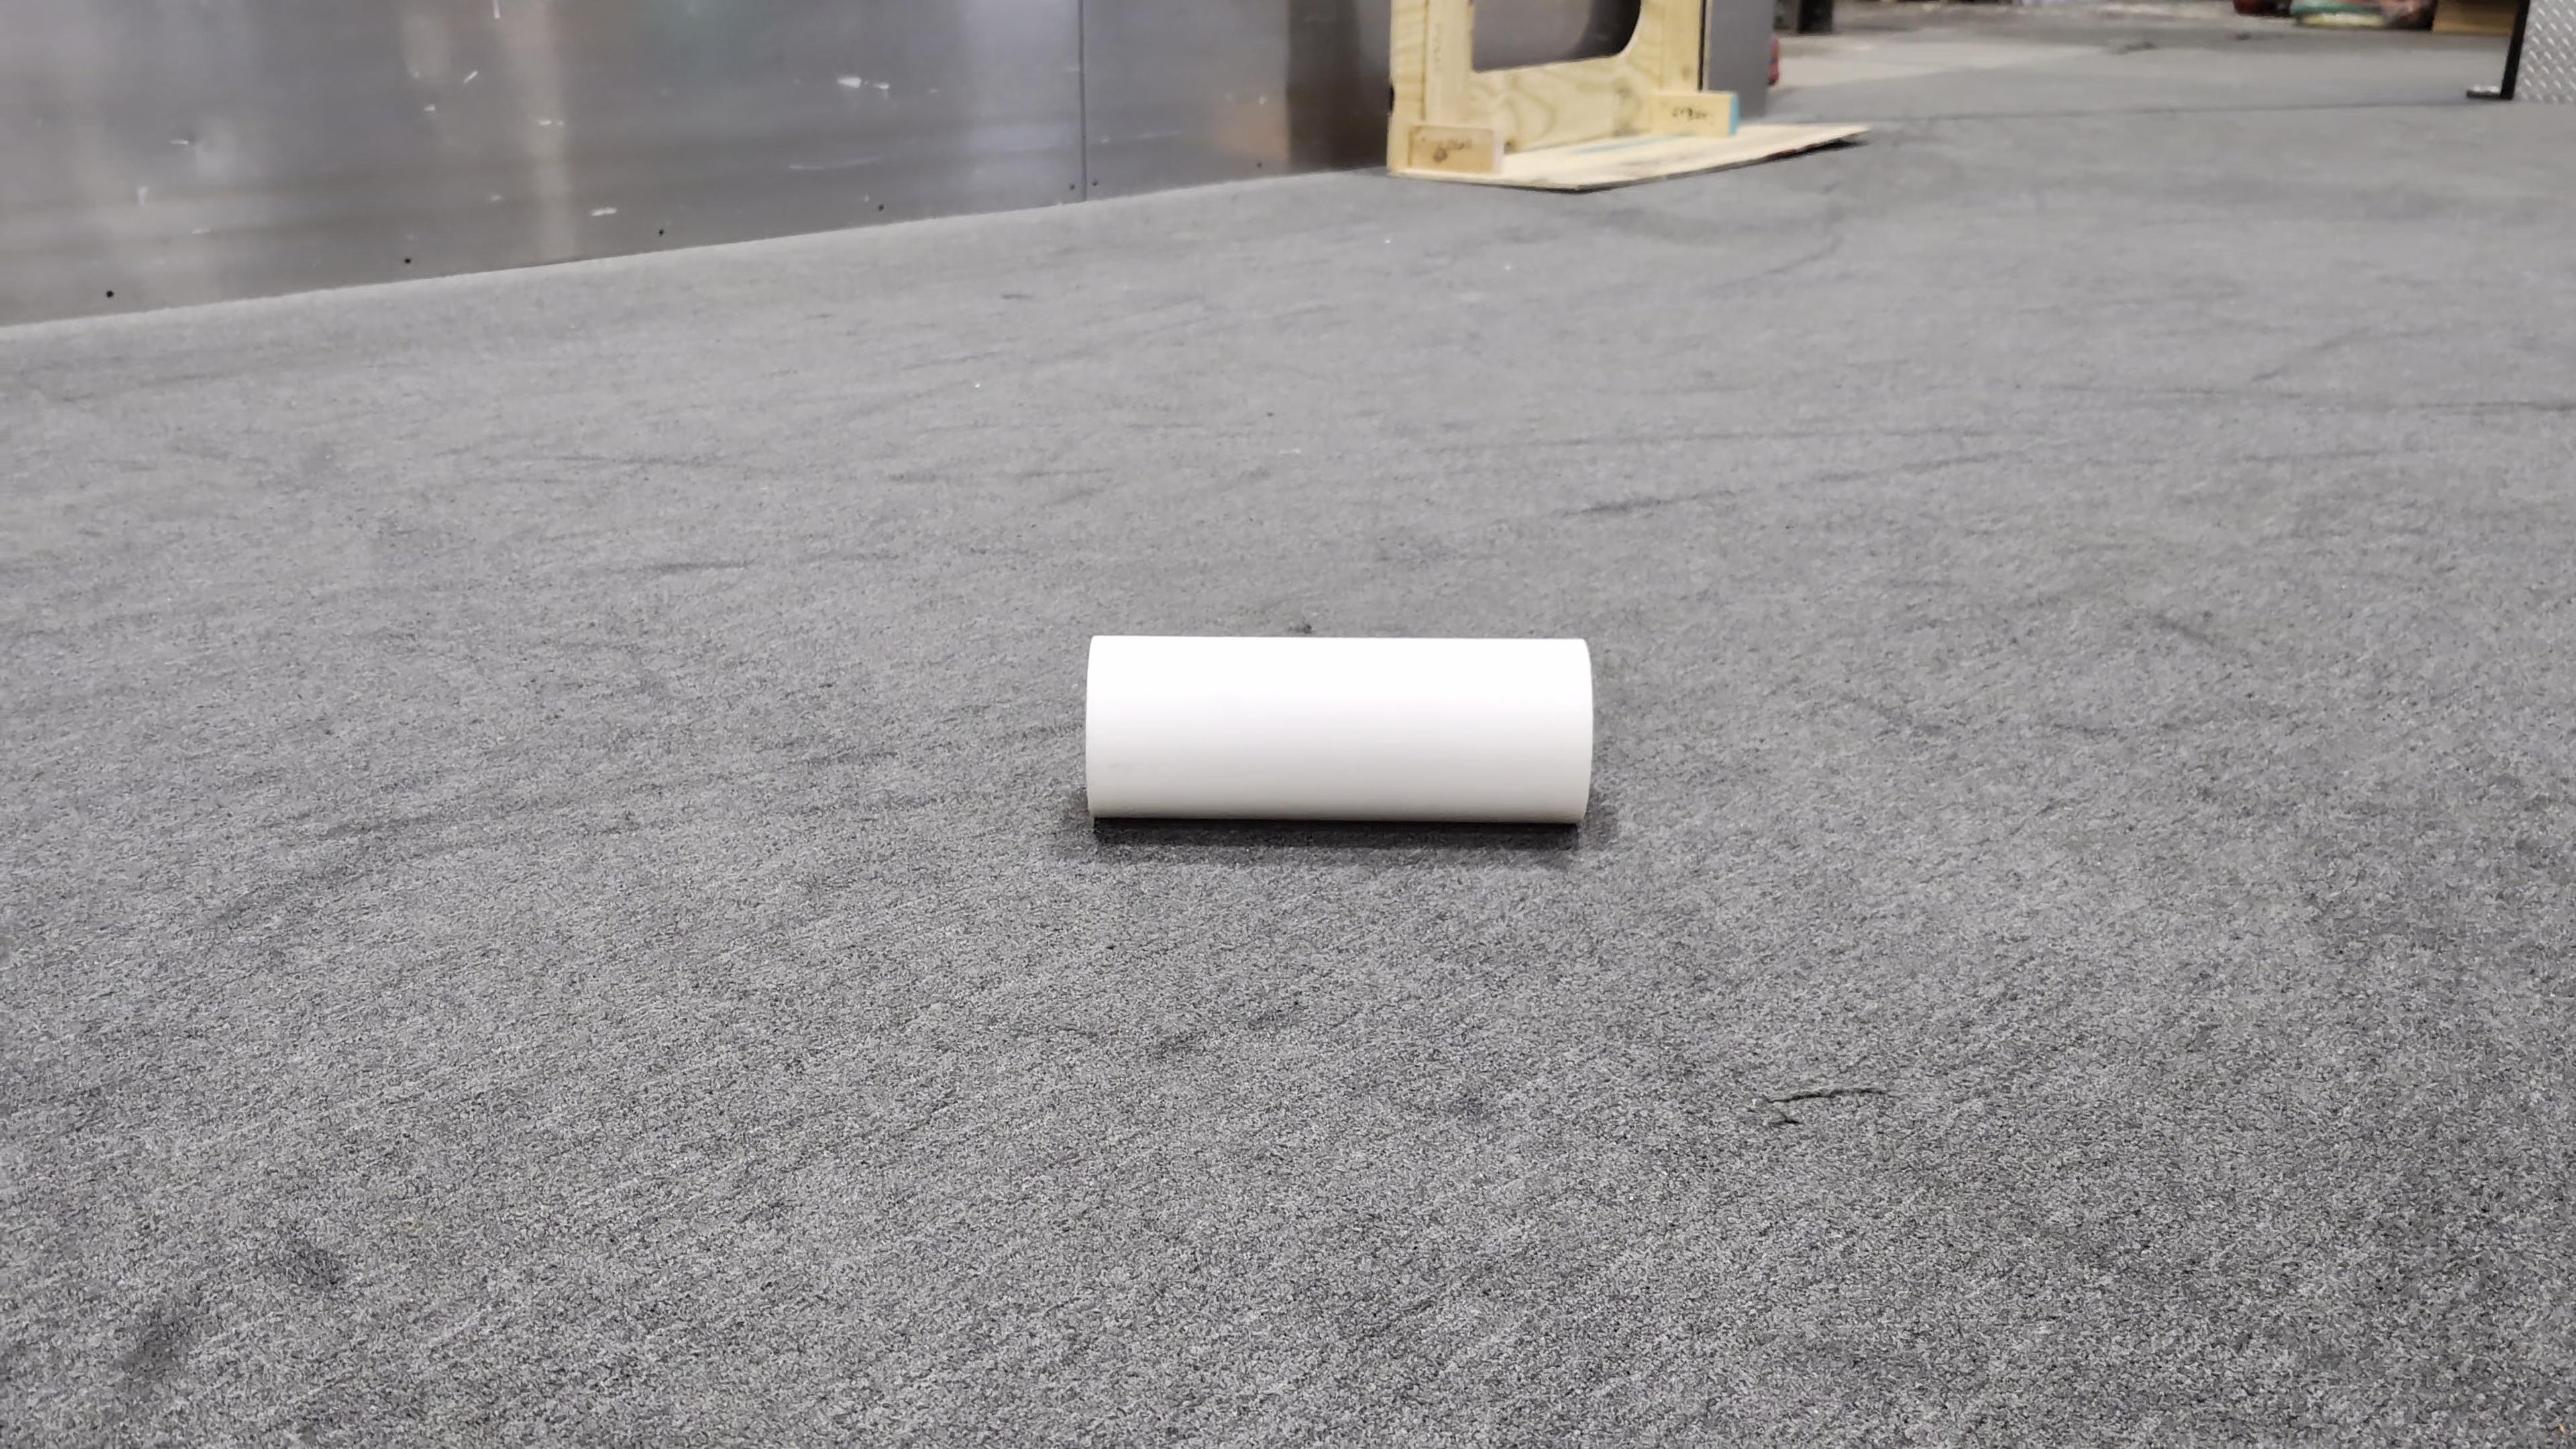coral: (1085, 628, 1594, 824)
